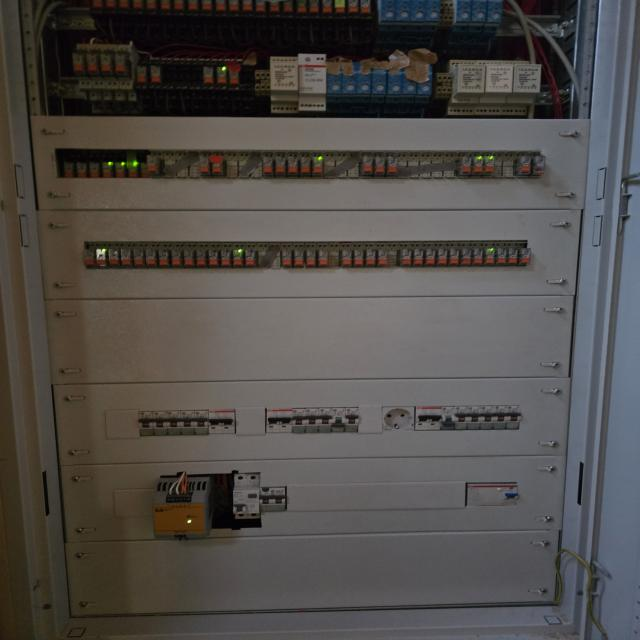Dimmer: (500, 60, 541, 115), (474, 60, 514, 115), (448, 60, 486, 115), (298, 53, 326, 111), (270, 56, 298, 113), (341, 63, 356, 94), (356, 63, 371, 94), (402, 68, 419, 94), (326, 65, 341, 94), (418, 66, 433, 95), (387, 68, 403, 95), (470, 0, 488, 22), (455, 0, 472, 23), (486, 0, 503, 23), (372, 69, 387, 94), (380, 0, 396, 22), (395, 0, 411, 22), (410, 0, 426, 22), (425, 0, 441, 21)
FI: (465, 483, 520, 506)
FI_Sicherungskombi: (233, 473, 260, 519)
Leitungsschutzschalter: (193, 410, 209, 435), (440, 407, 456, 430), (139, 412, 154, 436), (180, 411, 195, 435), (207, 410, 222, 434), (318, 408, 333, 432), (331, 408, 346, 432), (344, 408, 359, 432), (153, 411, 167, 436), (292, 409, 307, 432), (415, 407, 430, 430), (427, 407, 442, 430), (506, 406, 521, 429), (167, 411, 181, 435), (221, 409, 235, 433), (454, 406, 468, 430), (467, 406, 481, 430), (493, 406, 507, 430), (306, 408, 319, 433), (266, 409, 279, 433), (481, 406, 494, 430), (279, 409, 292, 432), (259, 488, 272, 511), (272, 488, 285, 511)
Relais: (515, 155, 531, 177), (147, 155, 161, 177), (210, 155, 224, 177), (361, 155, 375, 177), (532, 155, 545, 176), (458, 156, 471, 176), (216, 66, 229, 85), (300, 155, 311, 177), (460, 248, 473, 266), (245, 249, 258, 267), (275, 156, 286, 177), (313, 156, 324, 177), (374, 156, 385, 177), (484, 155, 495, 176), (150, 65, 162, 84), (196, 248, 208, 267), (200, 155, 210, 177), (288, 155, 298, 177), (473, 156, 484, 176), (518, 247, 530, 265), (387, 156, 397, 177), (73, 53, 84, 72), (233, 248, 244, 267), (184, 248, 195, 267), (96, 248, 107, 267), (121, 248, 132, 267), (134, 248, 145, 267), (146, 248, 157, 267), (102, 161, 114, 178), (263, 157, 273, 177), (115, 54, 126, 72), (101, 54, 112, 72), (127, 160, 138, 178), (496, 247, 507, 265), (484, 247, 495, 265), (413, 248, 424, 266), (377, 249, 388, 267), (341, 249, 352, 267), (209, 249, 220, 267), (109, 249, 120, 267), (159, 250, 170, 268), (137, 65, 147, 84), (204, 66, 214, 85), (306, 248, 316, 267), (85, 249, 95, 268), (89, 161, 100, 178), (400, 249, 411, 266), (437, 248, 448, 265), (366, 249, 377, 266), (353, 249, 364, 266), (449, 248, 459, 266), (425, 248, 435, 266), (318, 249, 328, 267), (294, 249, 304, 267), (221, 249, 231, 267), (229, 68, 239, 85), (64, 161, 74, 178), (77, 161, 87, 178), (508, 248, 518, 265), (473, 248, 483, 265), (282, 250, 292, 267), (334, 0, 346, 14), (268, 0, 280, 14), (115, 162, 126, 177), (88, 56, 98, 72), (360, 0, 371, 14), (348, 0, 359, 14), (308, 0, 319, 14), (228, 0, 239, 14), (172, 250, 181, 267), (215, 0, 227, 12), (159, 0, 171, 12), (242, 0, 253, 13), (322, 0, 332, 14), (297, 0, 307, 14), (283, 0, 293, 14), (141, 163, 150, 178), (188, 0, 199, 12), (174, 0, 185, 12), (146, 0, 157, 12), (132, 0, 143, 12), (256, 0, 266, 13), (202, 0, 212, 12)
Verbinder: (433, 73, 452, 99), (254, 69, 270, 96), (438, 0, 454, 25)
